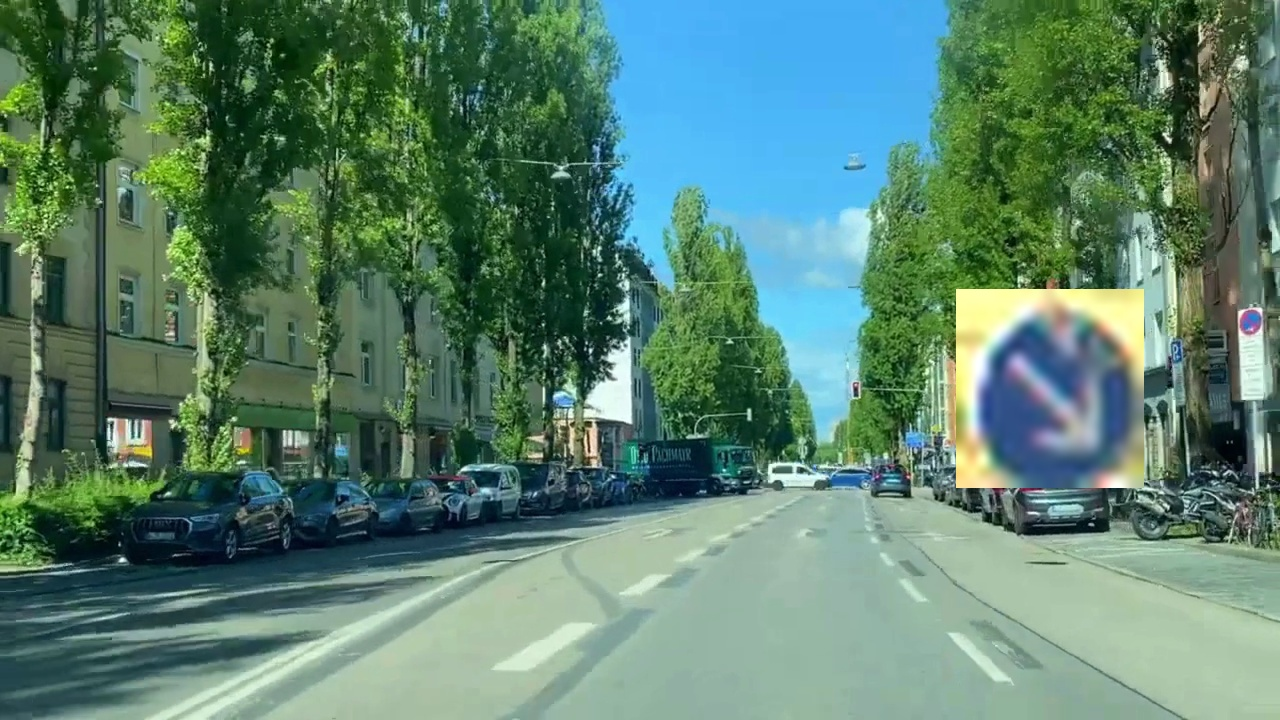Keep right: (956, 289, 1144, 488)
